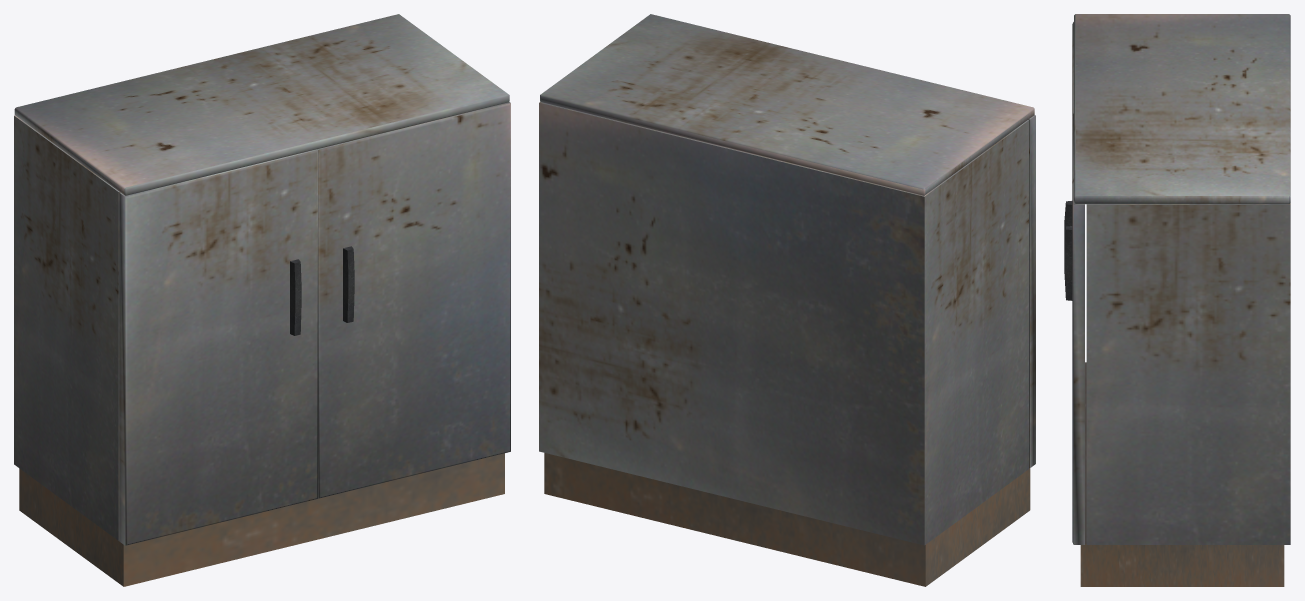
The model's file is pub_sink03.fbx.
The picture shows the model from 3 angles, left to right: view 1: azimuth 30°, elevation 25°; view 2: azimuth 150°, elevation 25°; view 3: azimuth 270°, elevation 25°; orthographic projection. The views are drawn at different scales.
Visible parts, largest first — view 1: pub_sink03; view 2: pub_sink03; view 3: pub_sink03.
Part boxes in pixels (x1,y1,x2,y2): pub_sink03: (14,14,510,586); pub_sink03: (539,14,1035,586); pub_sink03: (1064,14,1290,586).
Bounding box in the file's own units: 96.01 × 50.02 × 95.49.
1 material, 1 textured.
